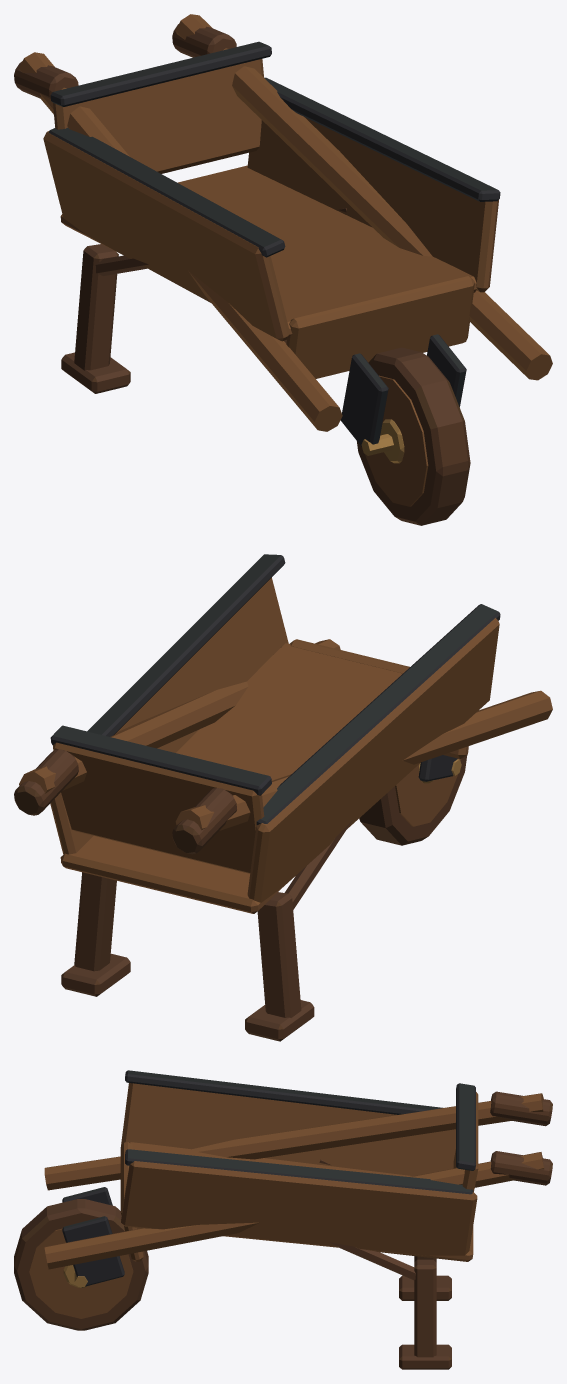
File: prop_wheelbarrow_a.glb
The picture shows the model from 3 angles, top to bottom: view 1: azimuth 30°, elevation 25°; view 2: azimuth 150°, elevation 25°; view 3: azimuth 270°, elevation 25°; orthographic projection. The views are drawn at different scales.
Parts seen in each view (by area): view 1: barrow_rail_0, barrow_foot_0, barrow_fork_0, barrow_axle; view 2: barrow_rail_0, barrow_foot_0, barrow_fork_0; view 3: barrow_rail_0, barrow_foot_0, barrow_fork_0.
Boxes of the visible parts, bbox=[...] form: barrow_rail_0: bbox=[19, 14, 552, 506]; barrow_foot_0: bbox=[14, 24, 470, 525]; barrow_fork_0: bbox=[48, 41, 500, 446]; barrow_axle: bbox=[361, 419, 404, 463]; barrow_rail_0: bbox=[19, 577, 552, 913]; barrow_foot_0: bbox=[14, 749, 467, 1041]; barrow_fork_0: bbox=[50, 554, 500, 824]; barrow_rail_0: bbox=[29, 1083, 543, 1318]; barrow_foot_0: bbox=[14, 1091, 552, 1369]; barrow_fork_0: bbox=[62, 1070, 475, 1287].
Bounding box in the file's own units: 0.5331 × 0.5914 × 1.32.
